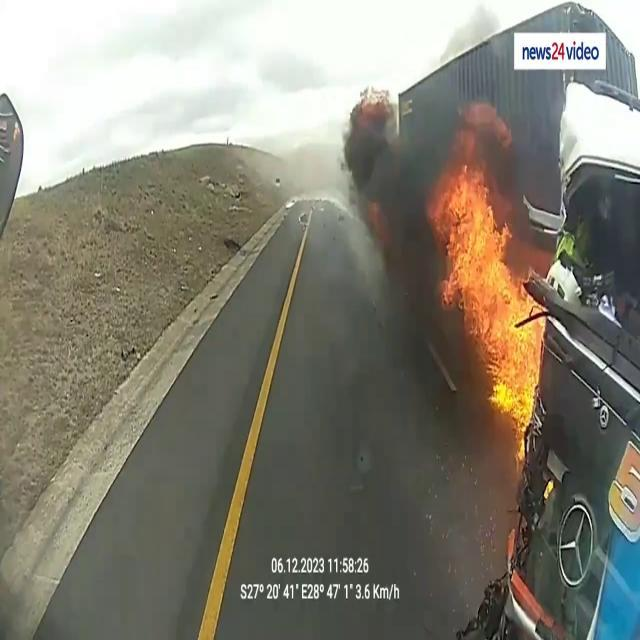Fire: (428, 152, 546, 454)
